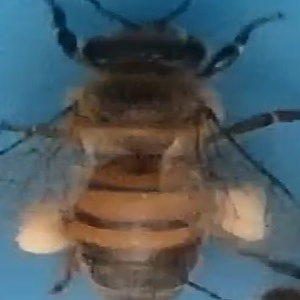bee: (13, 4, 288, 286)
